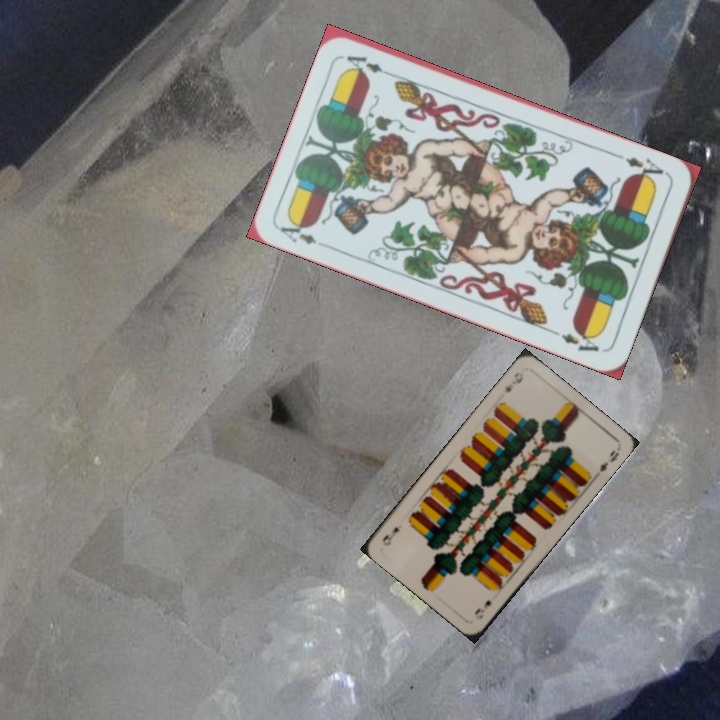E9: (500, 368, 526, 396), (470, 596, 494, 621)
EA: (621, 153, 671, 186), (276, 215, 319, 248)
